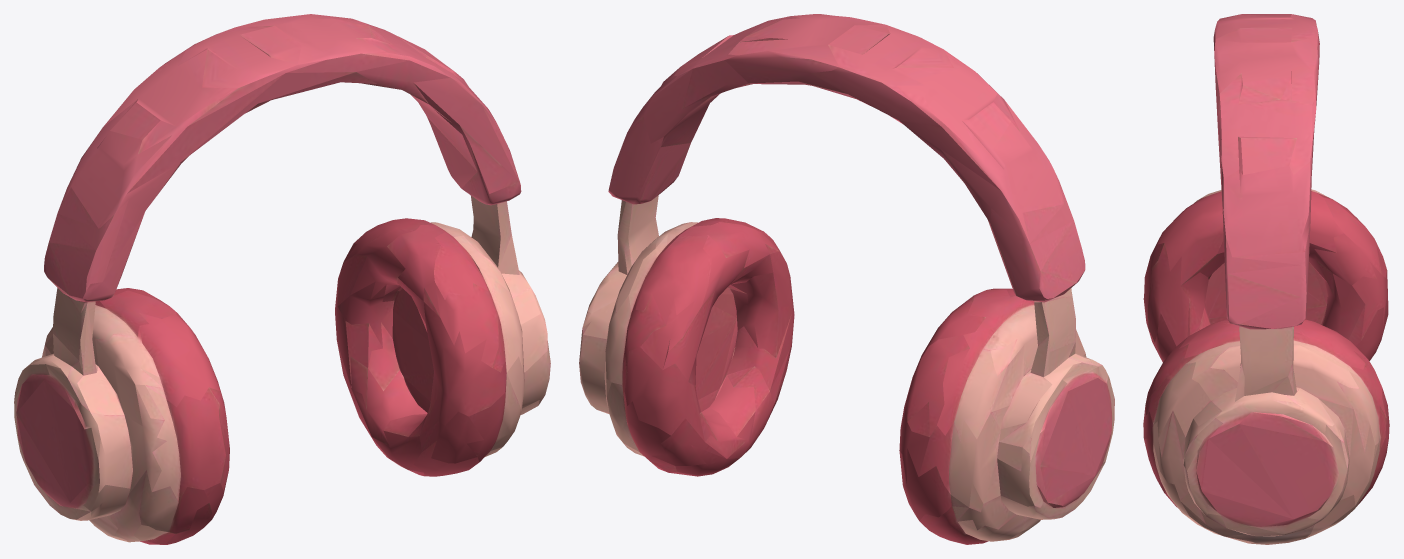
Rendered from headphones.fbx.
The picture shows the model from 3 angles, left to right: view 1: azimuth 30°, elevation 25°; view 2: azimuth 150°, elevation 25°; view 3: azimuth 270°, elevation 25°; orthographic projection. The views are drawn at different scales.
Visible parts, largest first — view 1: Mesh_0; view 2: Mesh_0; view 3: Mesh_0.
Part boxes in pixels (box(x1,y1,x2,y2)): Mesh_0: box(14, 14, 550, 544); Mesh_0: box(579, 14, 1114, 544); Mesh_0: box(1143, 14, 1389, 544).
Bounding box in the file's own units: 1.89 × 1.82 × 0.9356.
Materials: 1 (1 with a texture image).
